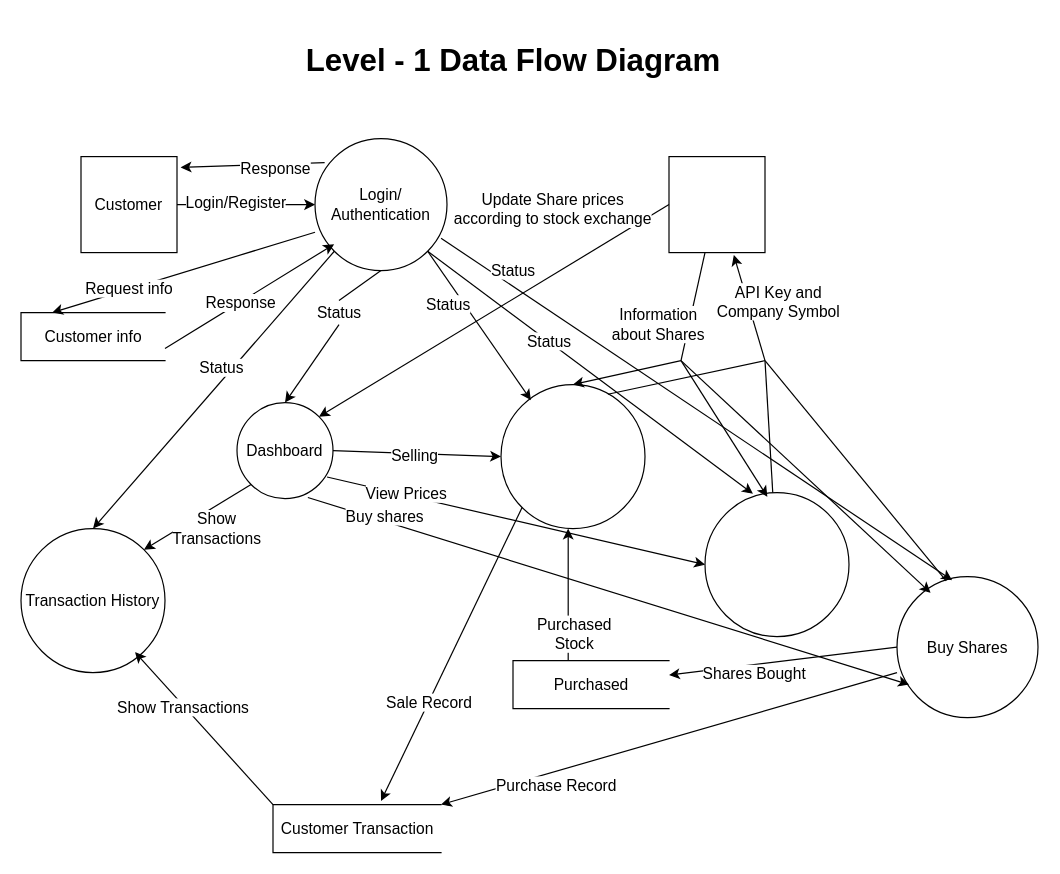
Some shapes in this 1060 by 874 pixel diagram are drawn without their labels. Each missing label, with the box of its shape:
IEX Cloud API: (668, 155, 765, 253)
Quote (View Share Prices): (704, 491, 849, 637)
Sell Shares (Already Bought): (500, 383, 645, 529)
